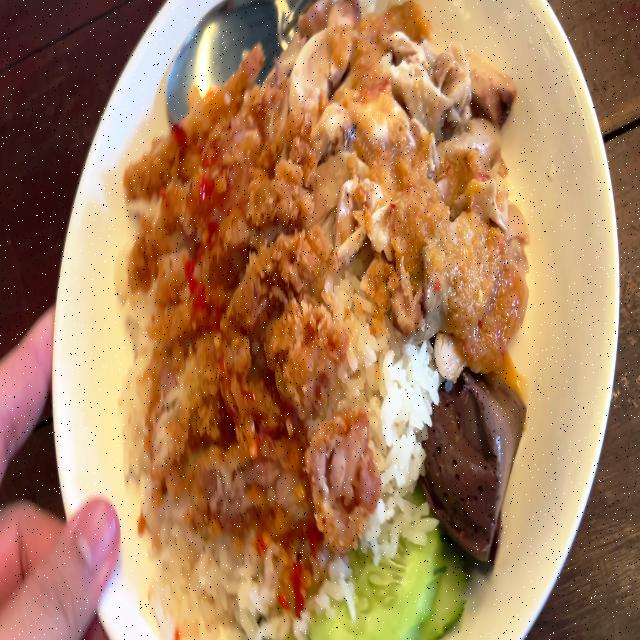boiled_chicken: (312, 14, 514, 330)
boiled_chicken_blood_jelly: (414, 359, 524, 572)
chicken_rice: (120, 0, 533, 640)
cucumber: (322, 497, 454, 640)
fried_chicken: (125, 70, 353, 536)
